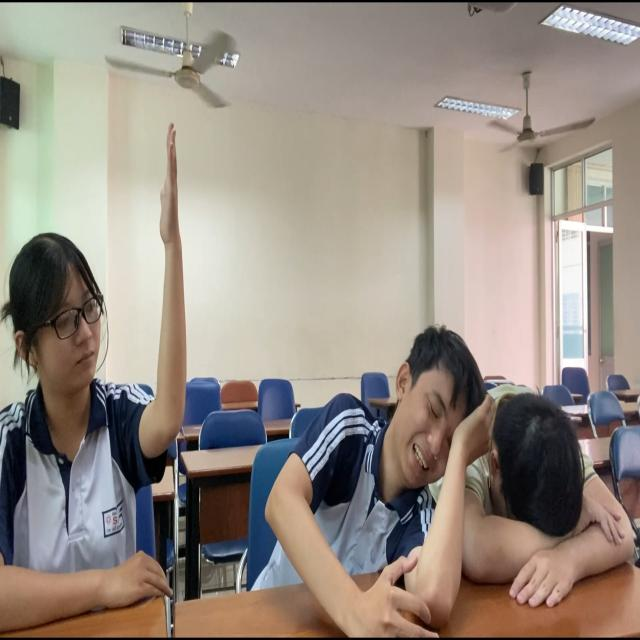raise_hand: (1, 118, 189, 640)
sleep: (471, 386, 640, 628)
